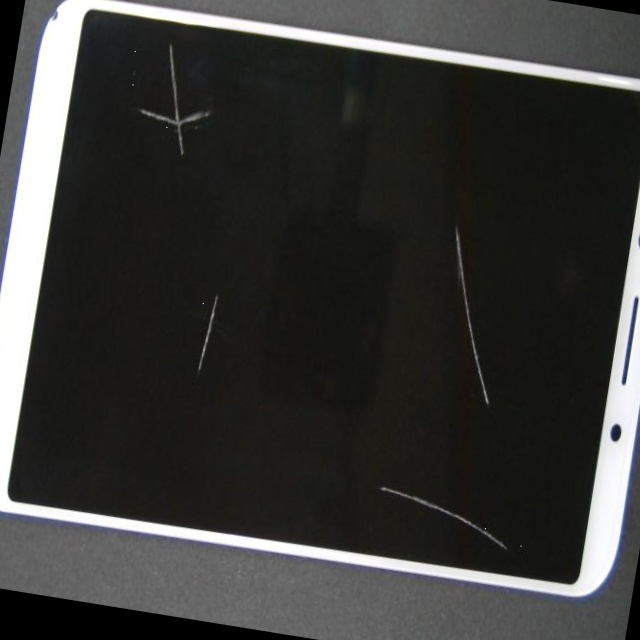scratch: (49, 175, 640, 640), (11, 137, 331, 630), (217, 23, 640, 375), (89, 2, 230, 194)
